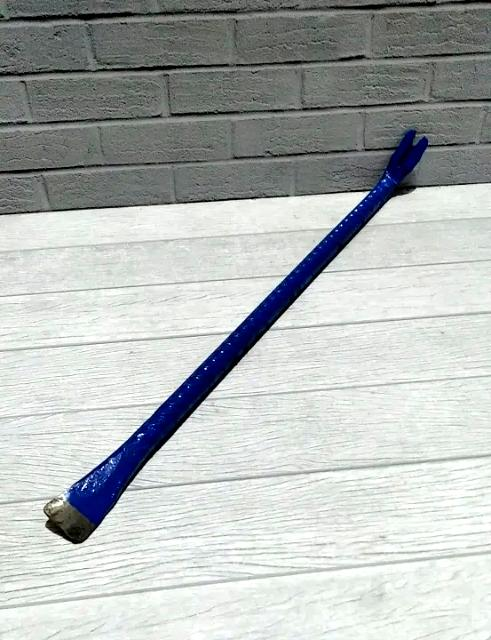crow bar: (39, 130, 436, 547)
